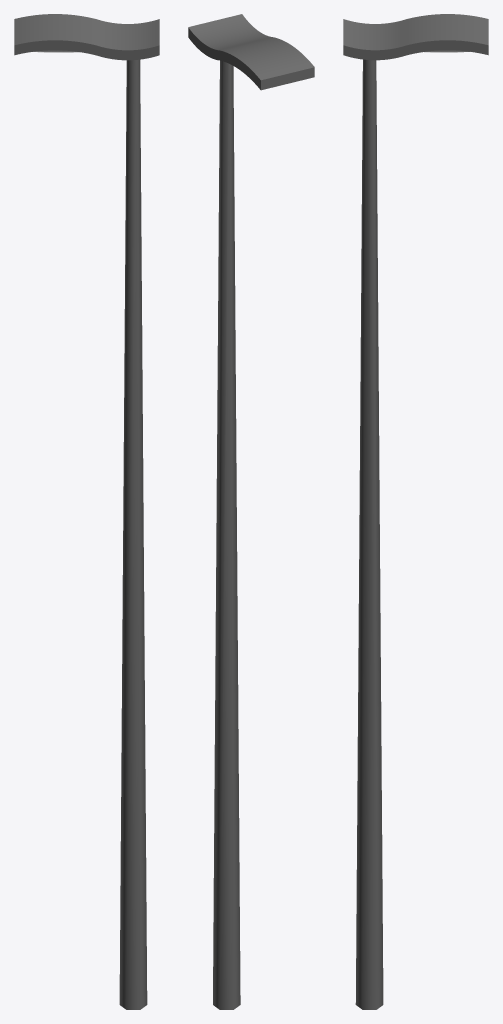
The model's file is Lampadaire.FBX.
The picture shows the model from 3 angles, left to right: view 1: azimuth 90°, elevation 25°; view 2: azimuth 210°, elevation 25°; view 3: azimuth 270°, elevation 25°; orthographic projection.
Parts seen in each view (by area): view 1: Lampadaire; view 2: Lampadaire; view 3: Lampadaire.
Part boxes in pixels (left/top/right/bottom): Lampadaire: left=14, top=14, right=159, bottom=1009; Lampadaire: left=188, top=14, right=314, bottom=1009; Lampadaire: left=343, top=14, right=488, bottom=1009.
Bounding box in the file's own units: 15.94 × 277 × 37.2.
Materials: 2 (2 with a texture image).
